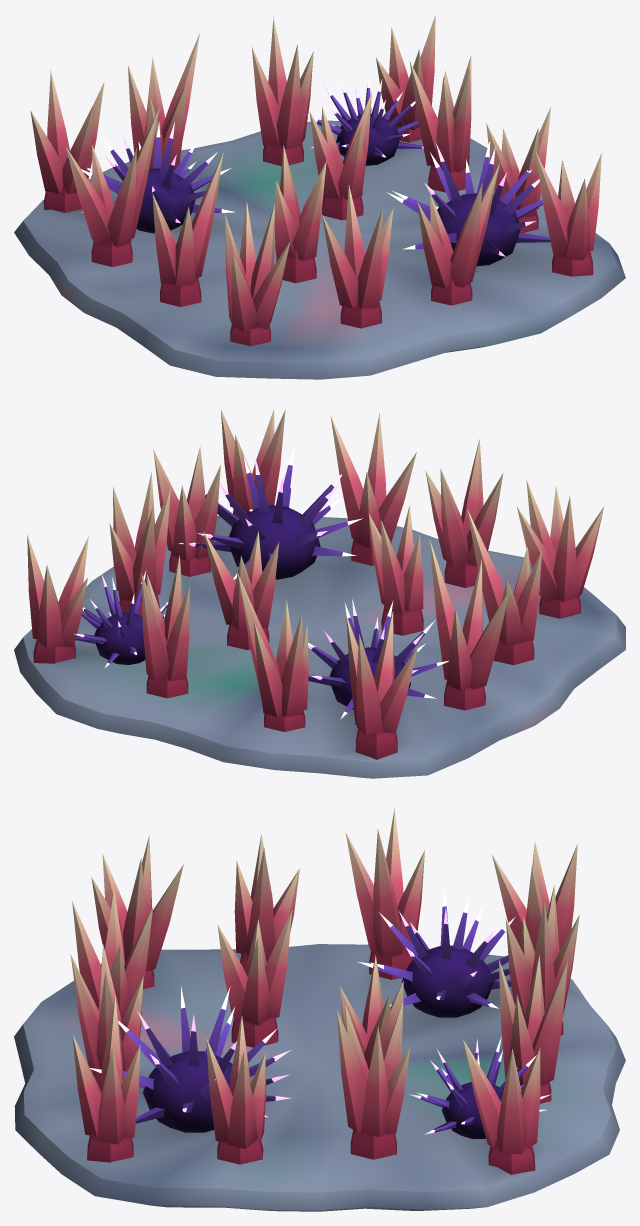
File: spikes_underwater.glb
3 views of the same model, one above another, from view 1: azimuth 30°, elevation 25°; view 2: azimuth 150°, elevation 25°; view 3: azimuth 270°, elevation 25° (orthographic). The views are drawn at different scales.
Visible parts, largest first — view 1: spikes_underwater; view 2: spikes_underwater; view 3: spikes_underwater.
Boxes of the visible parts, x1,y1,x2,y2 form: spikes_underwater: (14, 15, 625, 379); spikes_underwater: (14, 409, 625, 778); spikes_underwater: (14, 808, 625, 1211).
Size of the model in its own units: 1.97 by 0.7006 by 1.99.
